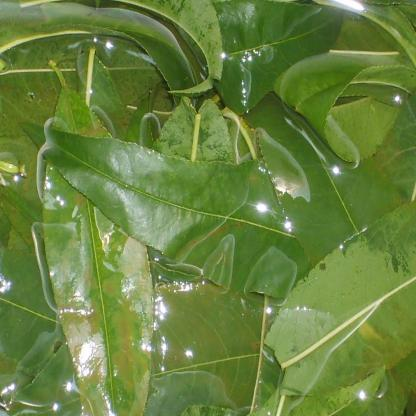peach leaf: (18, 112, 307, 305), (32, 71, 165, 415)
